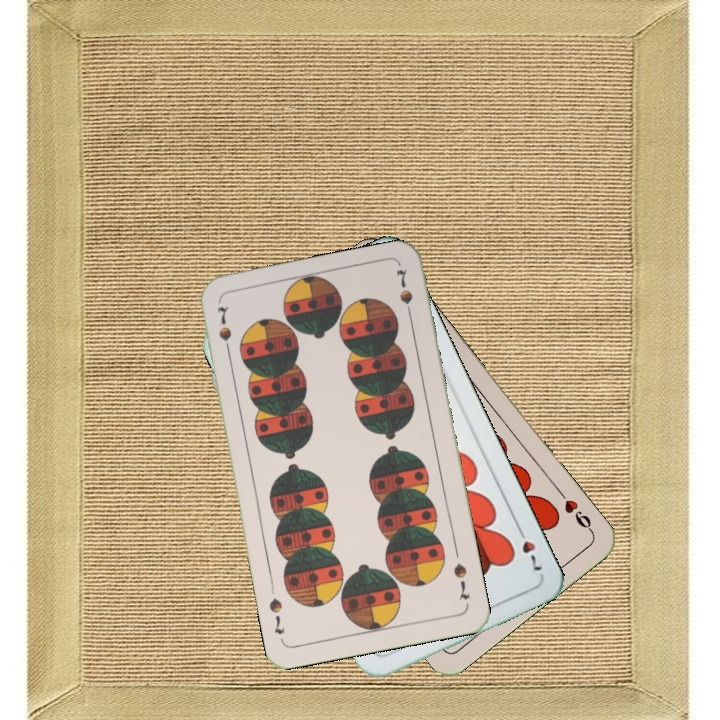H7: (512, 521, 545, 577)
H9: (554, 485, 596, 535)
S7: (213, 302, 235, 358), (449, 559, 472, 603)
